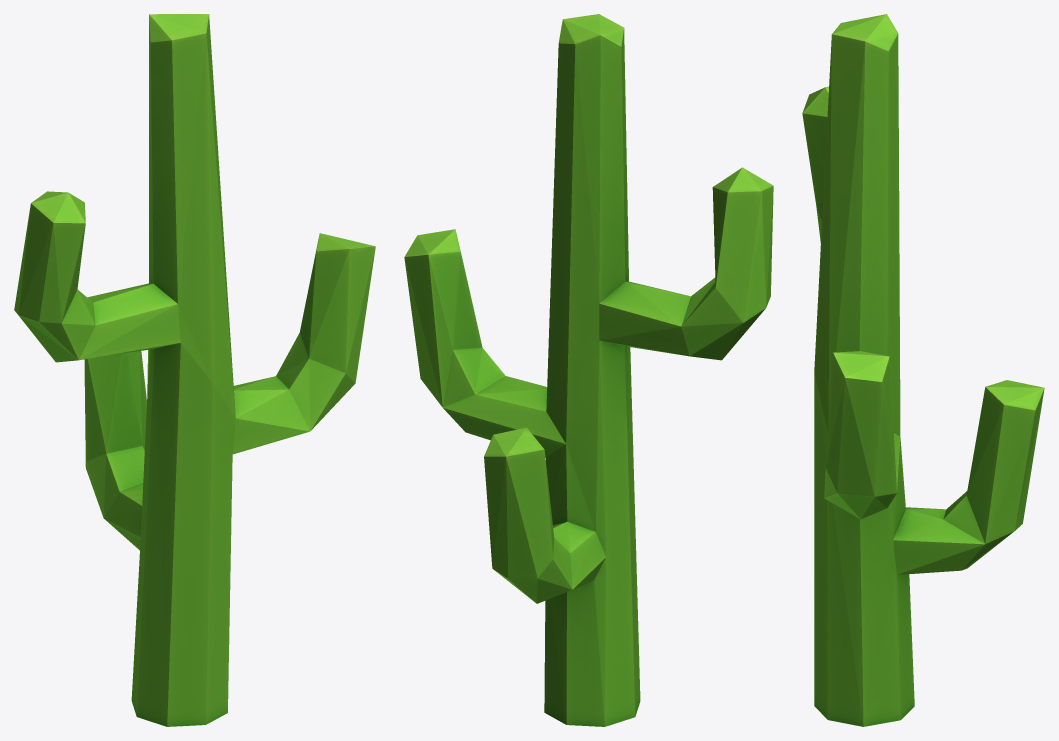
File: Cactus_14.fbx
3 renders of one model, left to right at view 1: azimuth 30°, elevation 25°; view 2: azimuth 150°, elevation 25°; view 3: azimuth 270°, elevation 25°, orthographic.
Visible parts, largest first — view 1: Cactus_14; view 2: Cactus_14; view 3: Cactus_14.
Part boxes in pixels (left/top/right/bottom): Cactus_14: left=14, top=14, right=375, bottom=726; Cactus_14: left=404, top=14, right=773, bottom=726; Cactus_14: left=802, top=14, right=1044, bottom=726.
Bounding box in the file's own units: 59.65 × 111 × 35.69.
